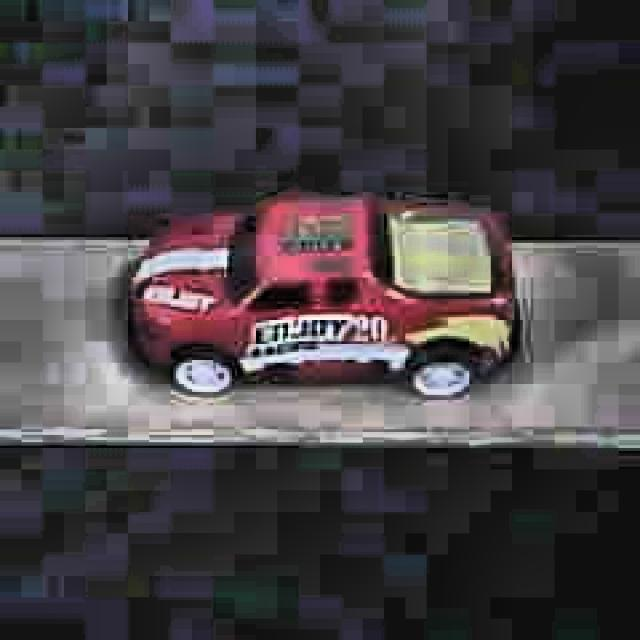car: (124, 189, 523, 405)
